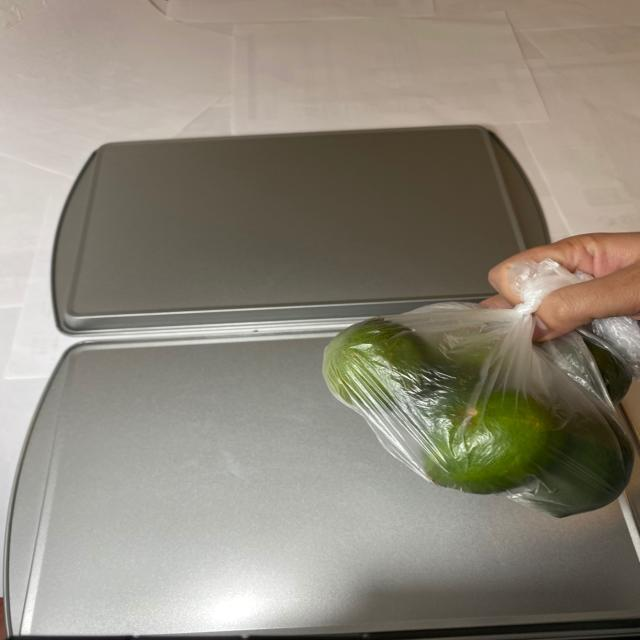lemon: (323, 304, 632, 521)
